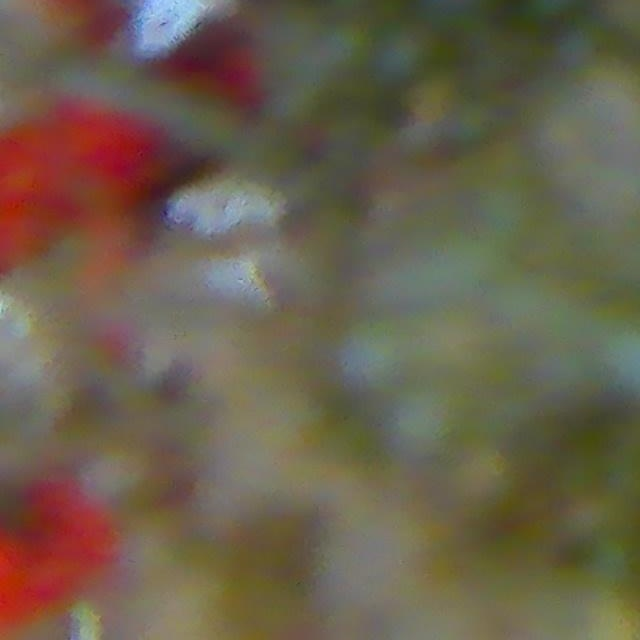SeaGrape: (335, 313, 414, 392), (383, 383, 461, 458), (371, 21, 435, 83)
